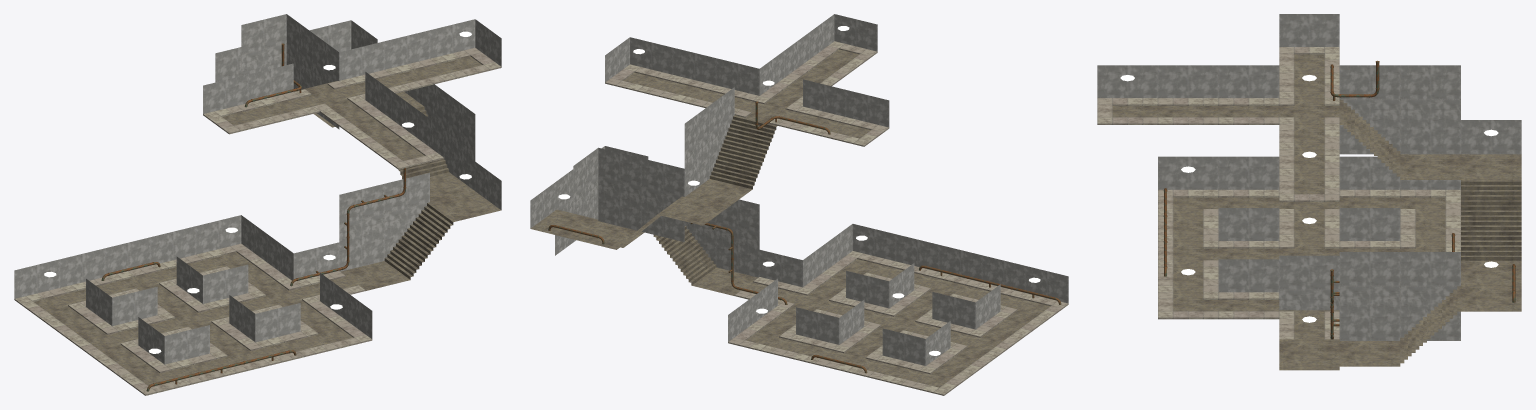
File: demo_scene.glb
3 renders of one model, left to right at view 1: azimuth 30°, elevation 25°; view 2: azimuth 150°, elevation 25°; view 3: azimuth 270°, elevation 25°, orthographic. The views are drawn at different scales.
Parts seen in each view (by area): view 1: wall, floor, walkway, pipe_bend, light_sphere; view 2: wall, floor, walkway, pipe_bend, light_sphere; view 3: wall, floor, walkway, pipe_bend, light_sphere.
Part boxes in pixels (x1=…): wall: x1=14, y1=14, x2=501, y2=364; floor: x1=34, y1=56, x2=500, y2=385; walkway: x1=14, y1=47, x2=501, y2=395; pipe_bend: x1=101, y1=43, x2=406, y2=391; light_sphere: x1=44, y1=31, x2=471, y2=353; wall: x1=530, y1=14, x2=1068, y2=365; floor: x1=530, y1=49, x2=1049, y2=387; walkway: x1=605, y1=41, x2=1068, y2=395; pipe_bend: x1=548, y1=101, x2=1061, y2=373; light_sphere: x1=558, y1=26, x2=1040, y2=355; wall: x1=1097, y1=14, x2=1521, y2=340; floor: x1=1112, y1=54, x2=1521, y2=370; walkway: x1=1097, y1=47, x2=1460, y2=339; pipe_bend: x1=1163, y1=60, x2=1515, y2=339; light_sphere: x1=1120, y1=75, x2=1498, y2=322.
Bounding box in the file's own units: 36 × 19 × 28.
6 materials, 5 textured.
